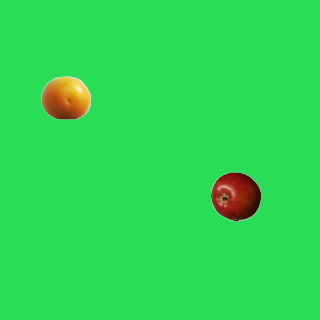Apple Braeburn: (210, 171, 260, 221)
Cherry Wax Yellow: (40, 72, 90, 122)
